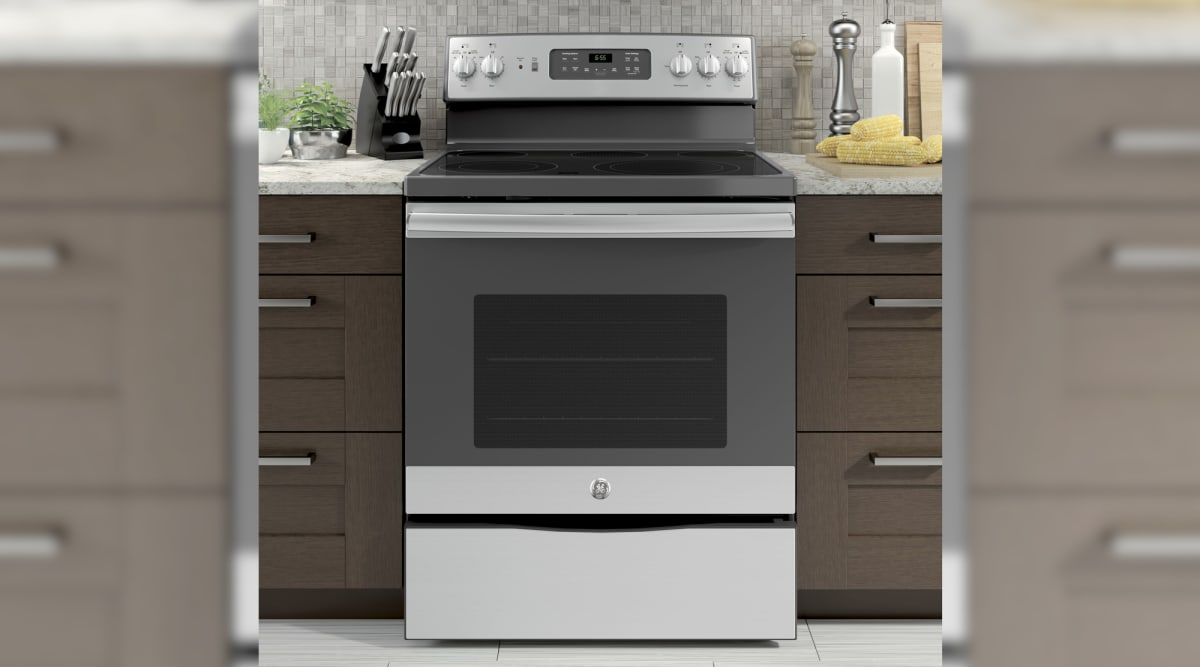stove: (414, 23, 808, 667)
